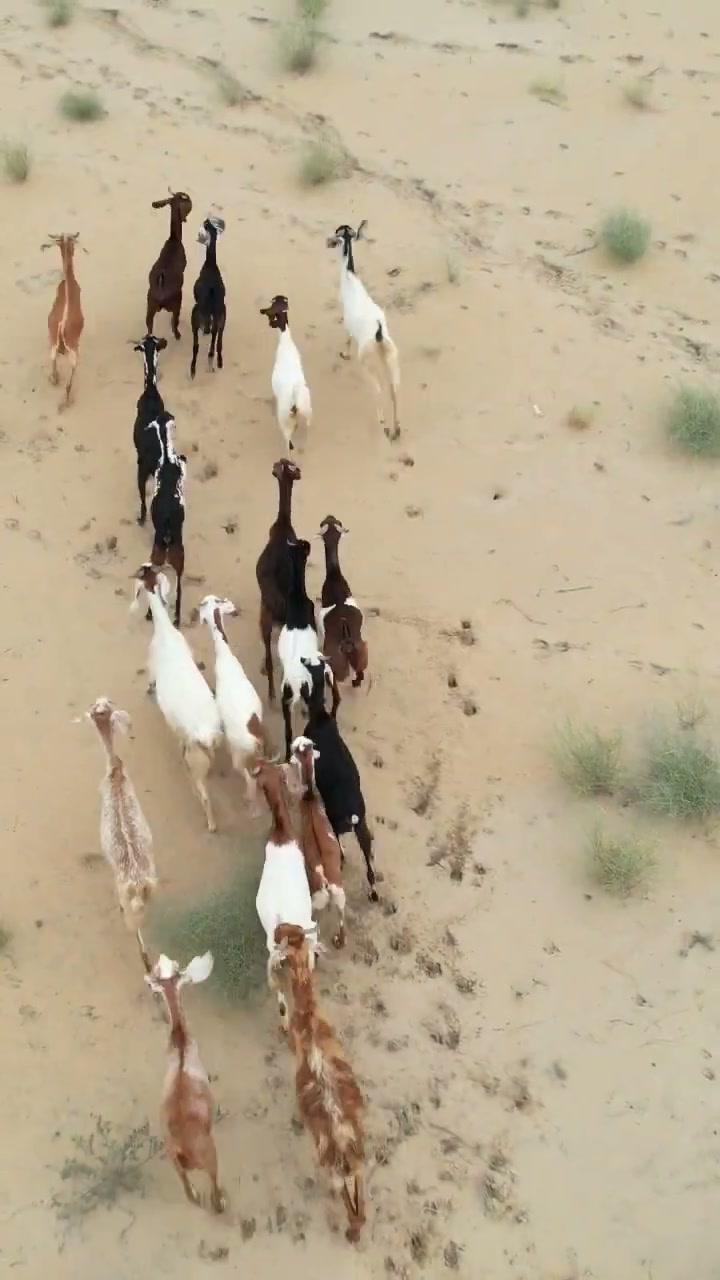animal_foot_print: (358, 434, 585, 1279), (218, 1022, 321, 1262), (27, 424, 148, 619)
